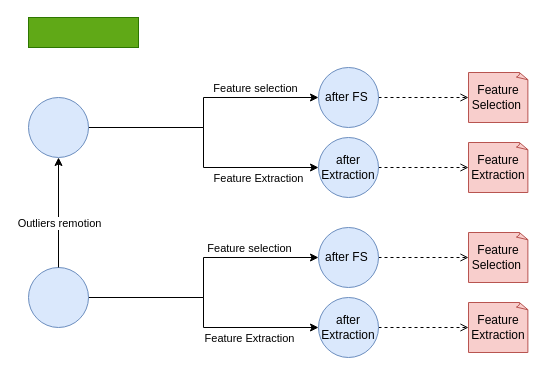
This 546x375 diagram has some shape labels left out. The shapes that lost their labels are listed below. From the top down, each one's centre as x and y in pixels, then its label:
At [83,32]: "DATASET 2".
At [58,127]: "Without outliers".
At [58,297]: "initial data".
